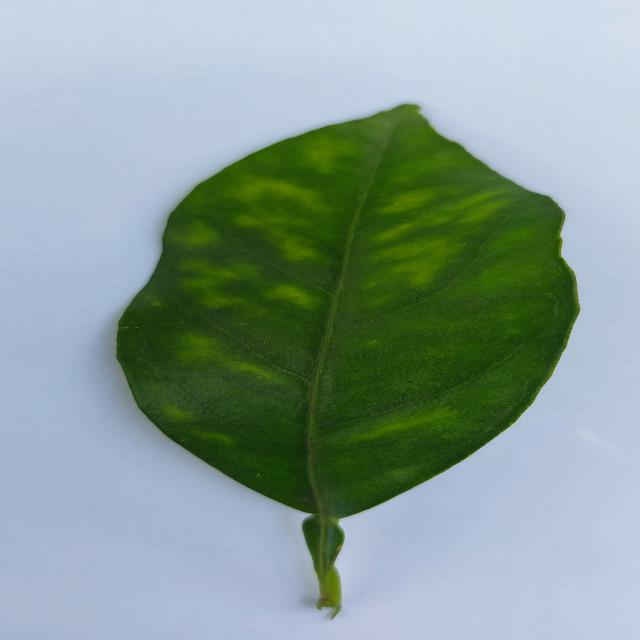greening: (118, 105, 575, 545)
